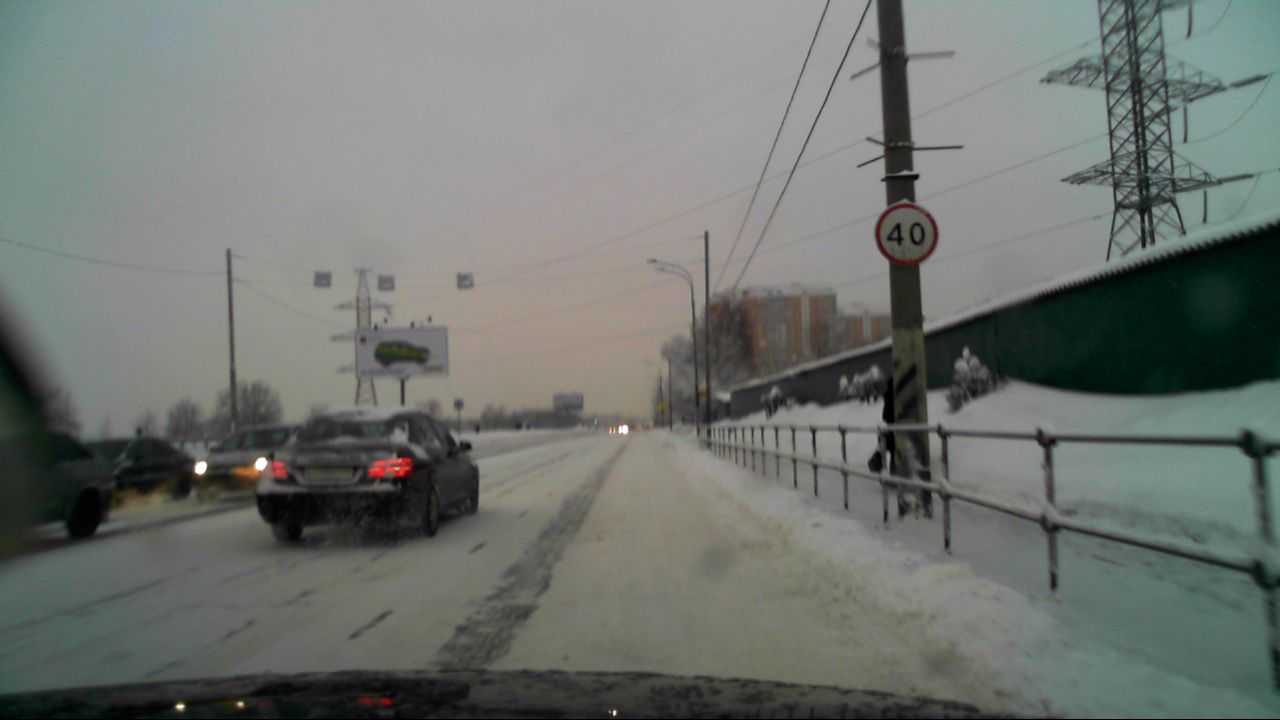speed_warning_40: (875, 201, 941, 265)
